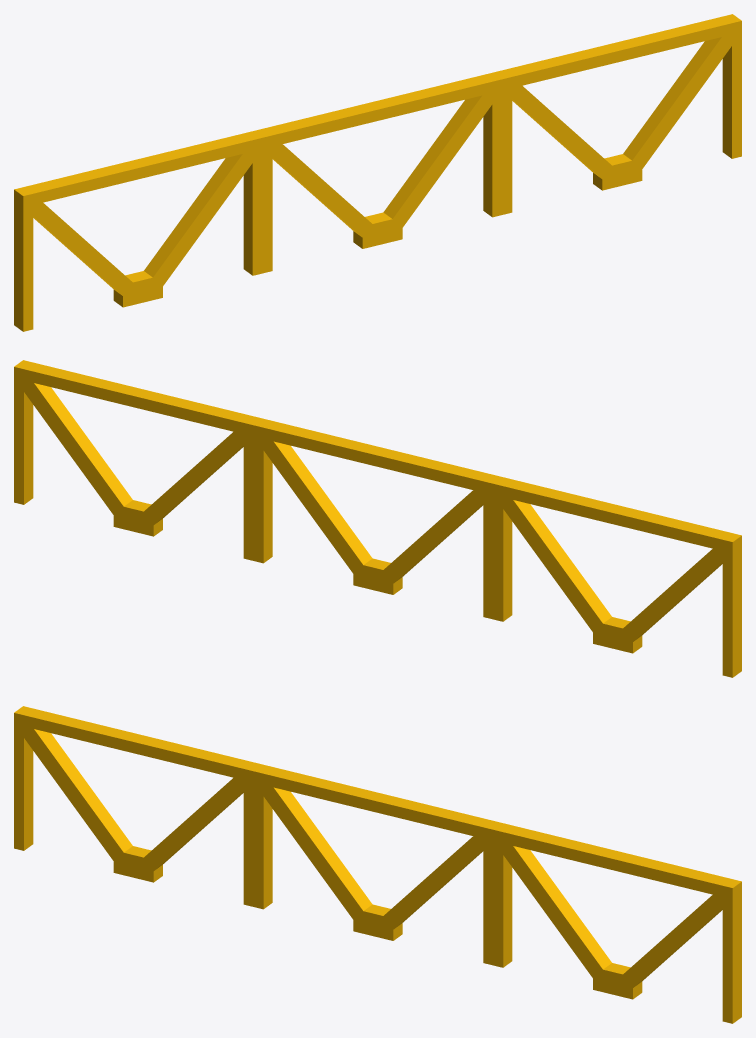
The model's file is Prop_Industrial_Crane_Gantry_Rail_01.FBX.
The picture shows the model from 3 angles, top to bottom: view 1: azimuth 30°, elevation 25°; view 2: azimuth 150°, elevation 25°; view 3: azimuth 330°, elevation 25°; orthographic projection.
Visible parts, largest first — view 1: Prop_Industrial_Crane_Gantry_Rail_01; view 2: Prop_Industrial_Crane_Gantry_Rail_01; view 3: Prop_Industrial_Crane_Gantry_Rail_01.
Boxes of the visible parts, <box> form: Prop_Industrial_Crane_Gantry_Rail_01: <box>14,14,741,331</box>; Prop_Industrial_Crane_Gantry_Rail_01: <box>14,360,741,677</box>; Prop_Industrial_Crane_Gantry_Rail_01: <box>14,706,741,1023</box>.
Size of the model in its own units: 5891 by 1063 by 131.
